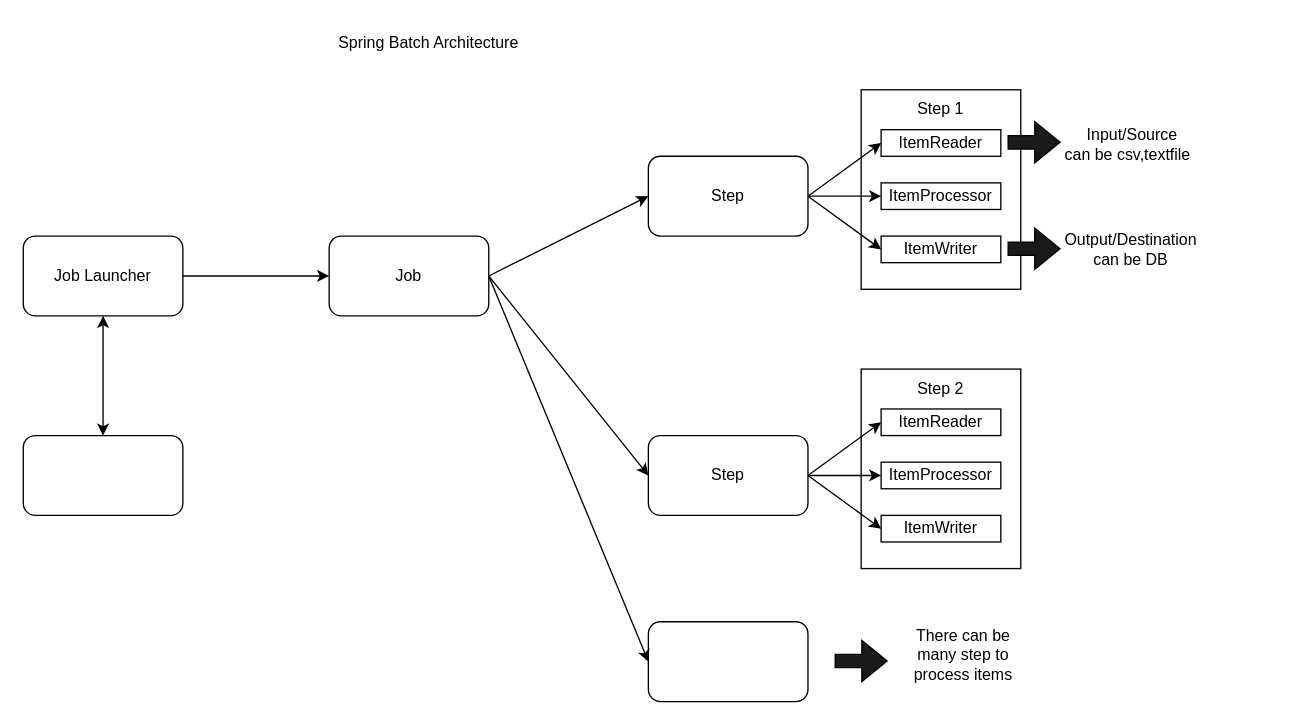
Image size: 1295x725. Some labels were removed from this diagram. Each missing label, with the centre of its shape:
"Job Repository" goes at [102,474].
"Step....." goes at [727,661].
